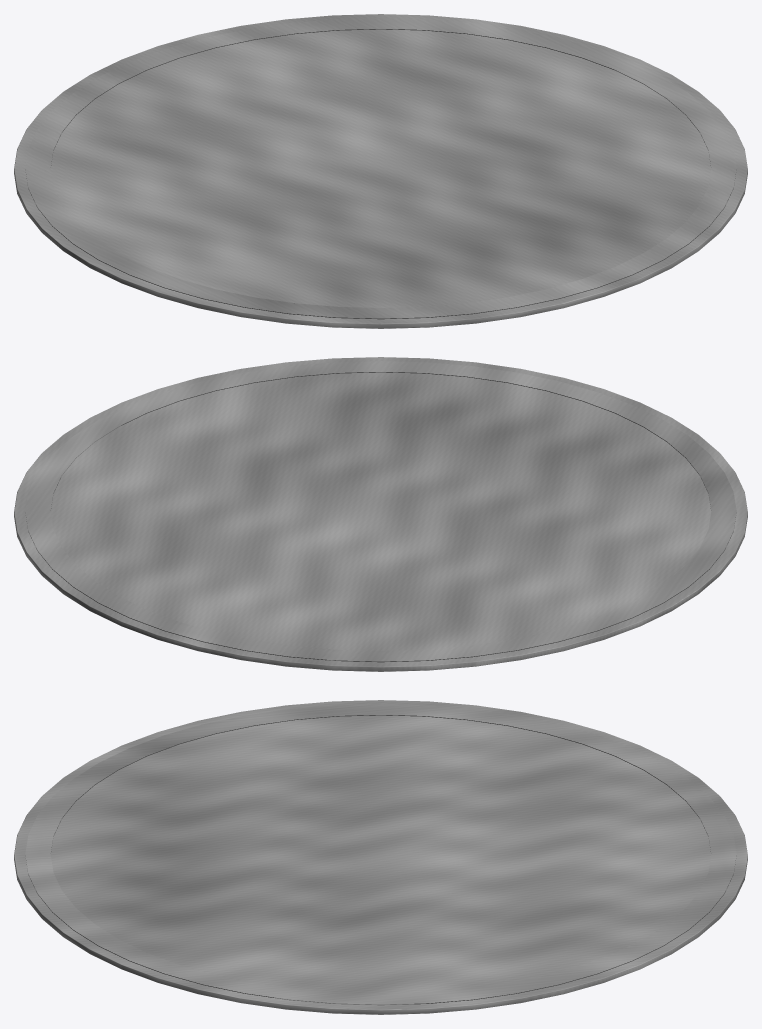
File: Furn_RoundRug.fbx
The picture shows the model from 3 angles, top to bottom: view 1: azimuth 30°, elevation 25°; view 2: azimuth 150°, elevation 25°; view 3: azimuth 270°, elevation 25°; orthographic projection.
Visible parts, largest first — view 1: Furn_RoundRug; view 2: Furn_RoundRug; view 3: Furn_RoundRug.
Part boxes in pixels (x1=…): Furn_RoundRug: x1=14, y1=14, x2=747, y2=328; Furn_RoundRug: x1=14, y1=357, x2=747, y2=671; Furn_RoundRug: x1=14, y1=700, x2=747, y2=1014.
Bounding box in the file's own units: 2.6 × 0.022 × 2.6.
Materials: 1 (1 with a texture image).
